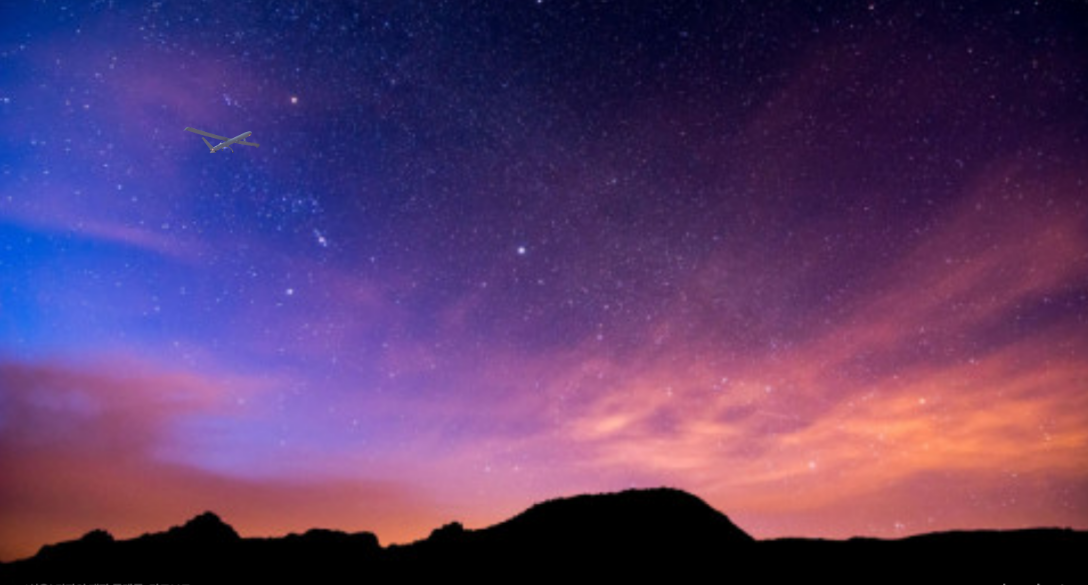military drone: (182, 126, 260, 153)
